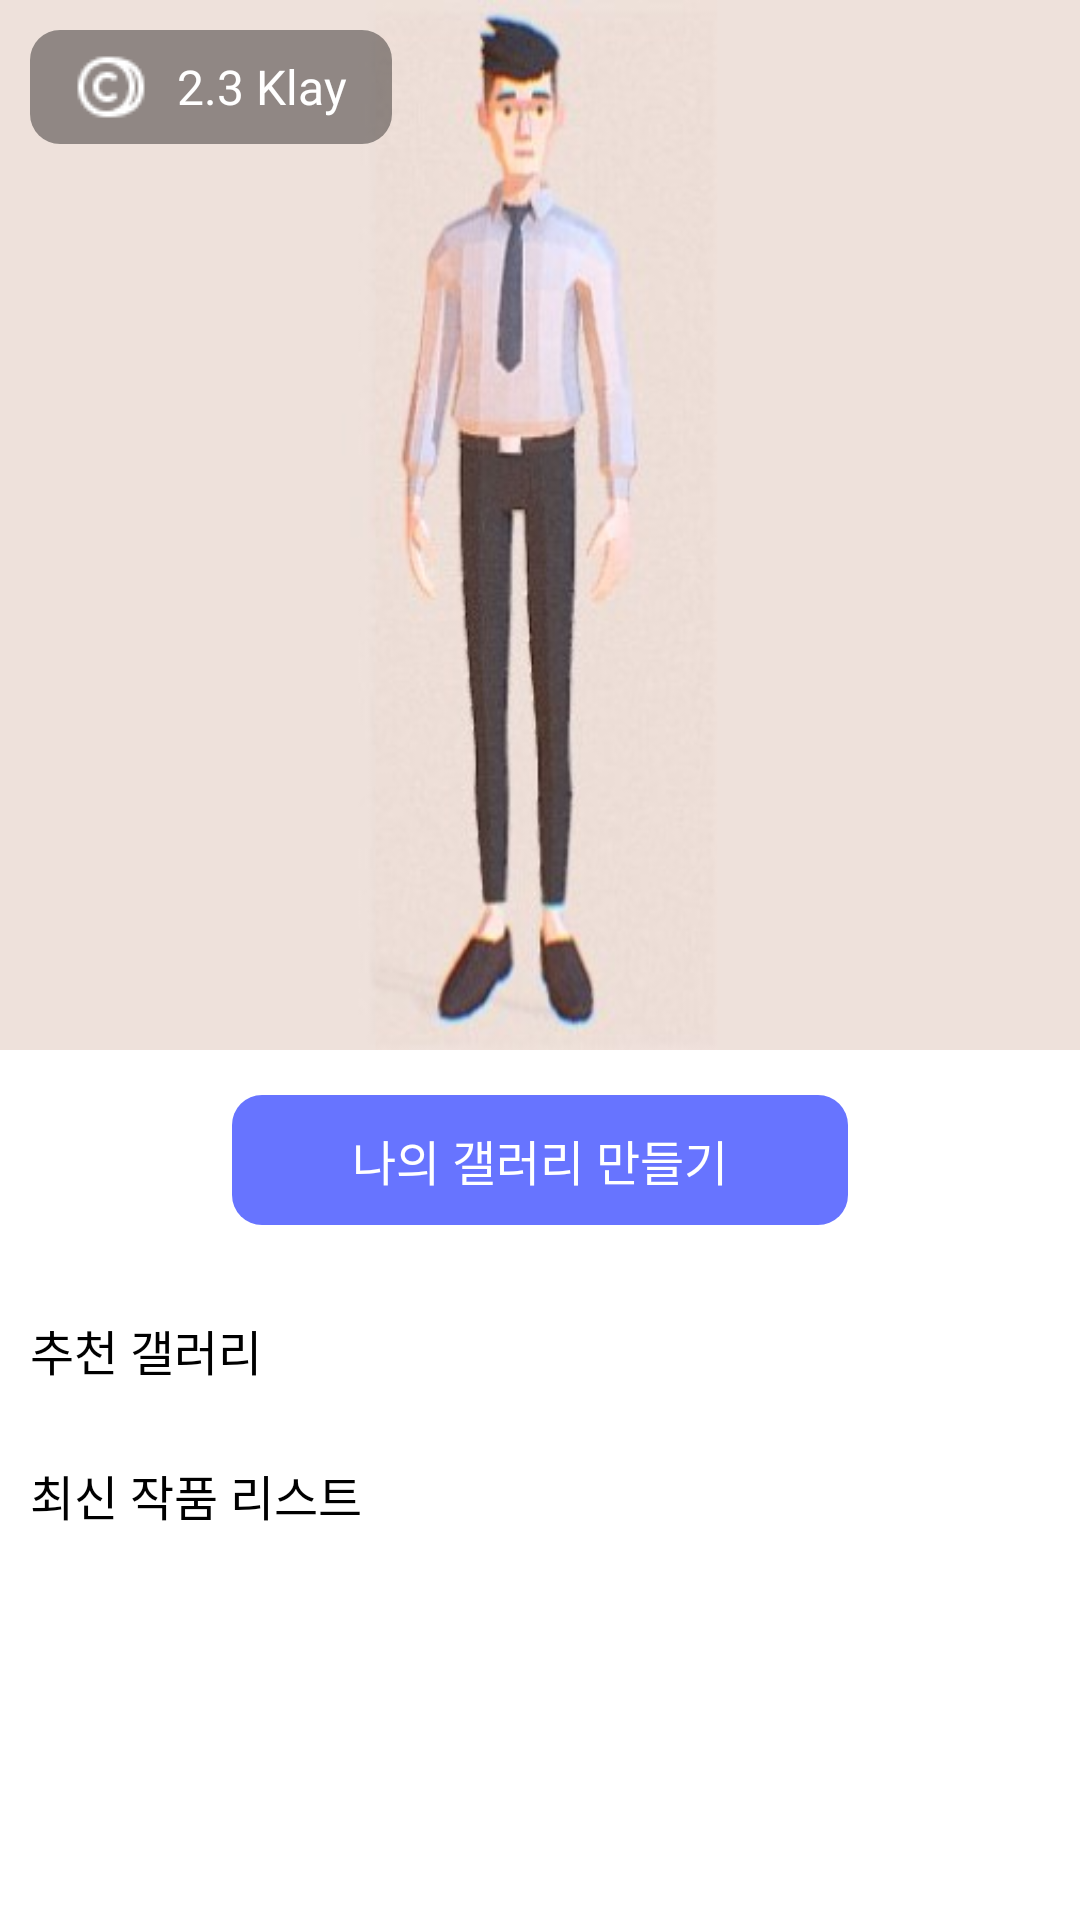

Where icons sit on this 1080*1920 app screen, as [left=x1, top=y1, right=x2, bottom=y2]:
coin: [left=77, top=56, right=145, bottom=118]
